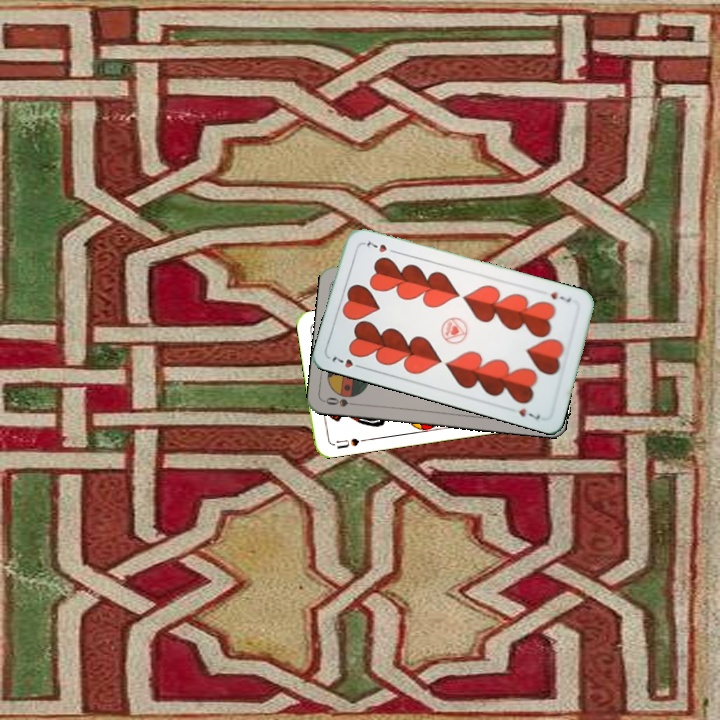H7: (328, 352, 366, 371), (546, 288, 574, 305)
SO: (322, 393, 362, 409)
SU: (332, 434, 369, 451)
